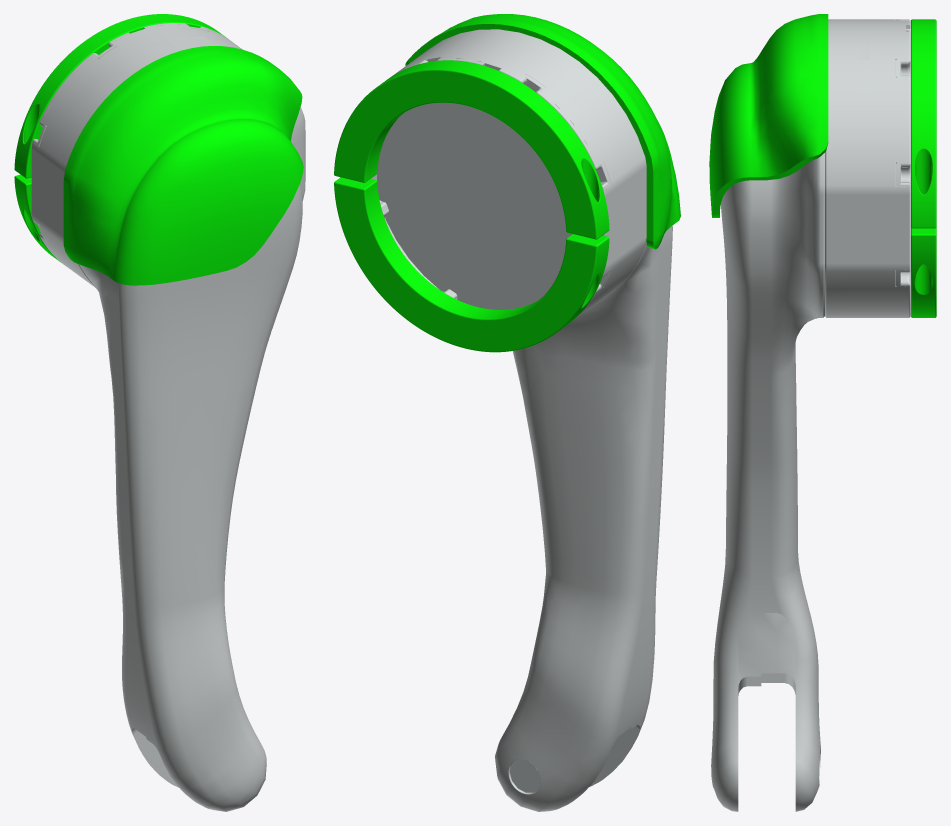
The model's file is thigh_mirror copy.dae.
The picture shows the model from 3 angles, left to right: view 1: azimuth 30°, elevation 25°; view 2: azimuth 150°, elevation 25°; view 3: azimuth 270°, elevation 25°; orthographic projection. The views are drawn at different scales.
Visible parts, largest first — view 1: thigh.FR0815; view 2: thigh.FR0815; view 3: thigh.FR0815.
Boxes of the visible parts, x1,y1,x2,y2 form: thigh.FR0815: (14,14,305,811); thigh.FR0815: (334,14,680,811); thigh.FR0815: (709,14,936,811).
Bounding box in the file's own units: 0.0969 × 0.0734 × 0.2779.
